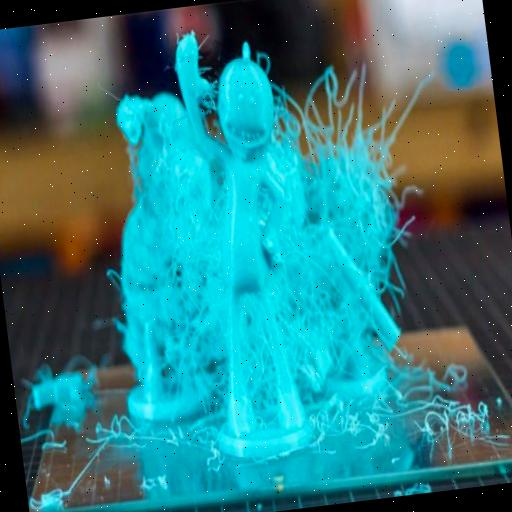spaghetti: (266, 65, 408, 282), (146, 123, 238, 416), (415, 380, 512, 462), (308, 389, 394, 460)
